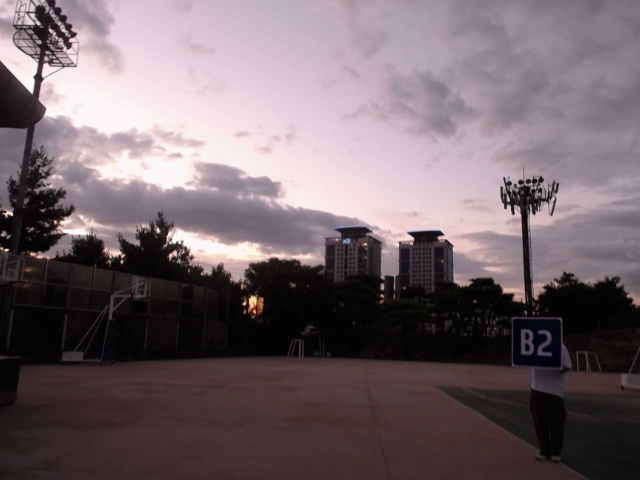delivery_b2: (511, 315, 563, 370)
